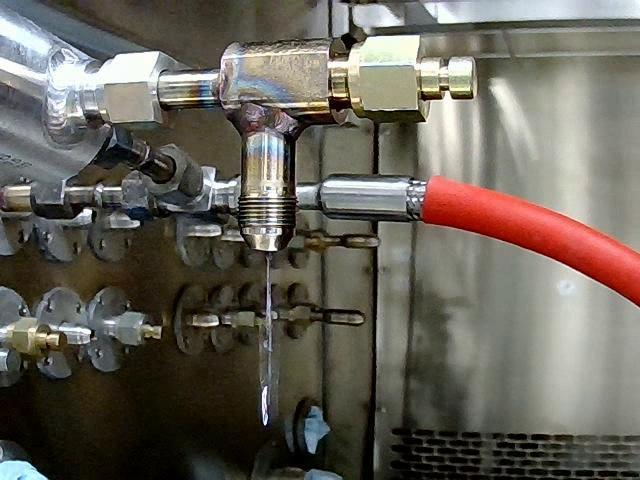water drop: (256, 254, 284, 426)
